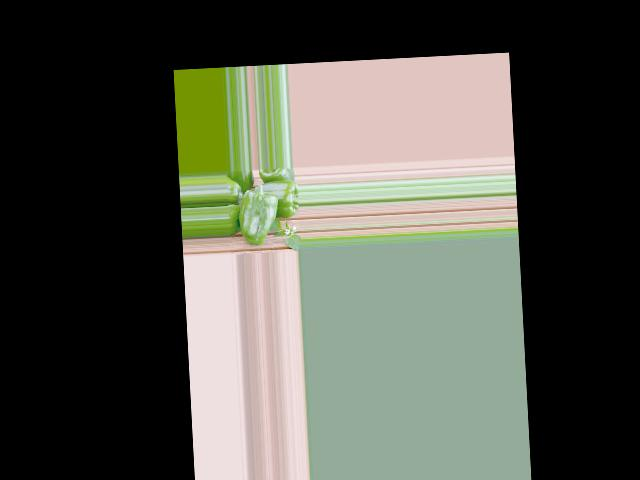bell_pepper: (225, 173, 244, 200)
